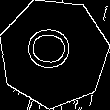O_E: (26, 30, 81, 77)
